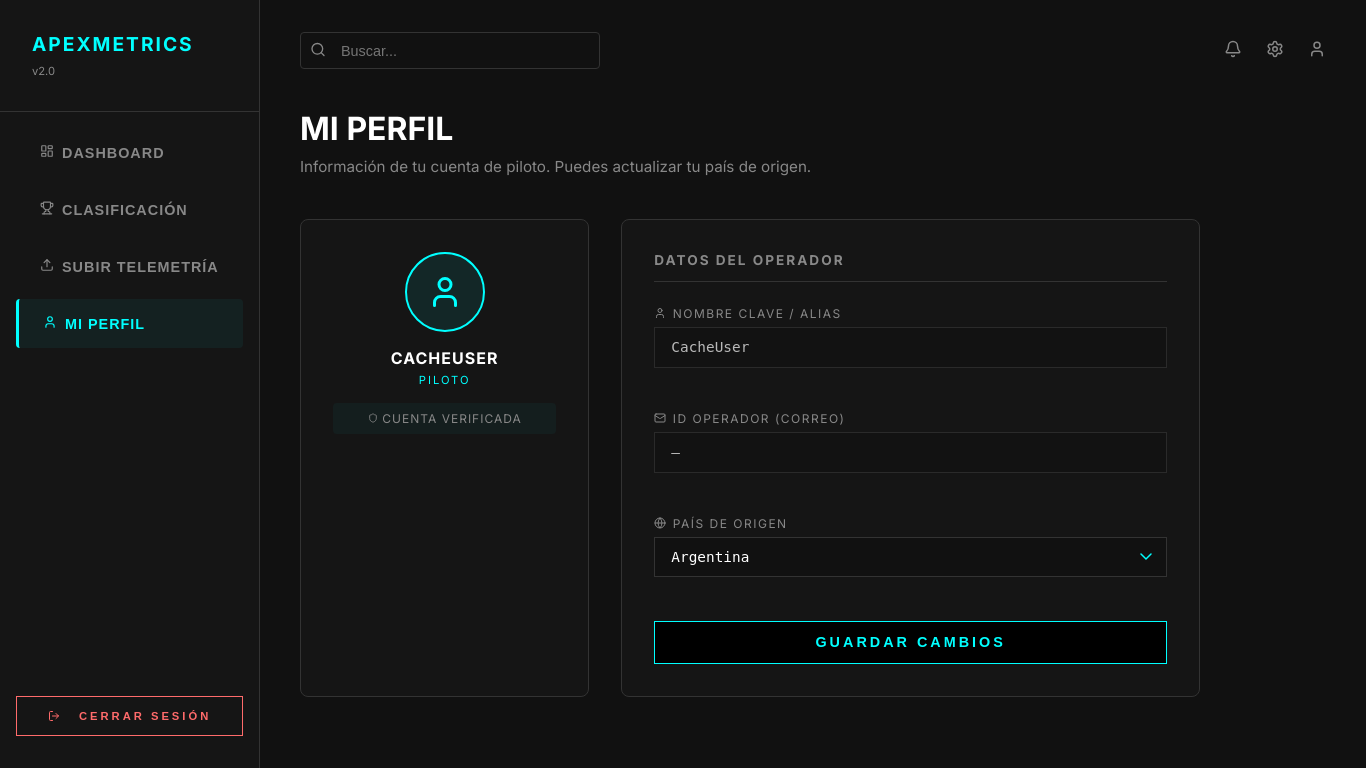
Scenario: Profile — RF03 › muestra "GUARDANDO..." al hacer clic en guardar
The width and height of the screenshot is (1366, 768).
What coordinates should you click on to do the following:
click the button "GUARDAR CAMBIOS"
I would click on:
 (911, 642)
Its box is [654,621,1167,664].
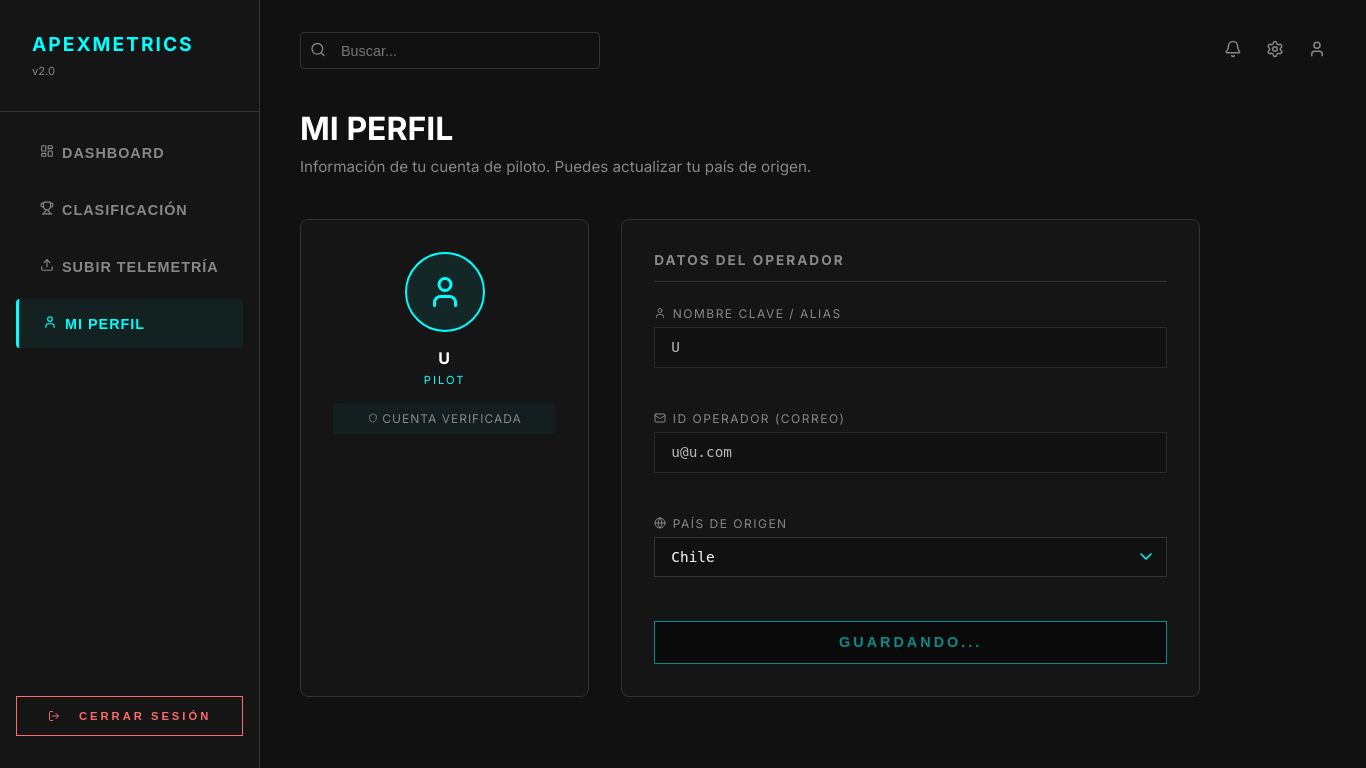
Check: the button "GUARDANDO..." is shown, box [654,621,1167,664]
